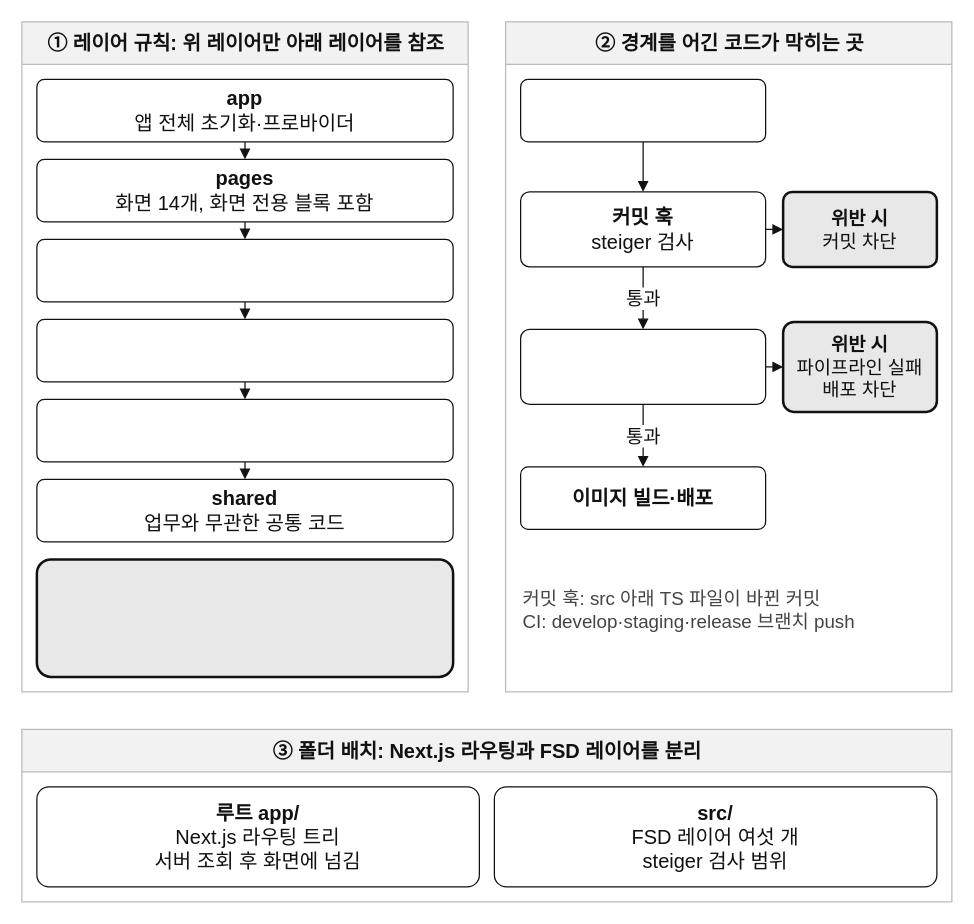
Image size: 974x924. Some labels were removed from this diagram. The shapes that lost their labels are listed below. From the top down, each one's centre as x and y in pixels, then its label:
[642,110]: 코드 수정 사람·AI 코딩 에이전트
[244,270]: widgets 로그인 뒤 모든 화면의 레이아웃 하나
[244,350]: features 로그인·검색·등록 같은 사용자 동작
[642,366]: 배포 브랜치 CI Biome·타입·steiger 검사
[244,430]: entities 계약서·검토요청 같은 업무 데이터
[244,618]: 금지 아래에서 위로 참조 같은 레이어의 다른 슬라이스끼리 참조 (entities만 @x 진입점으로 허용)
